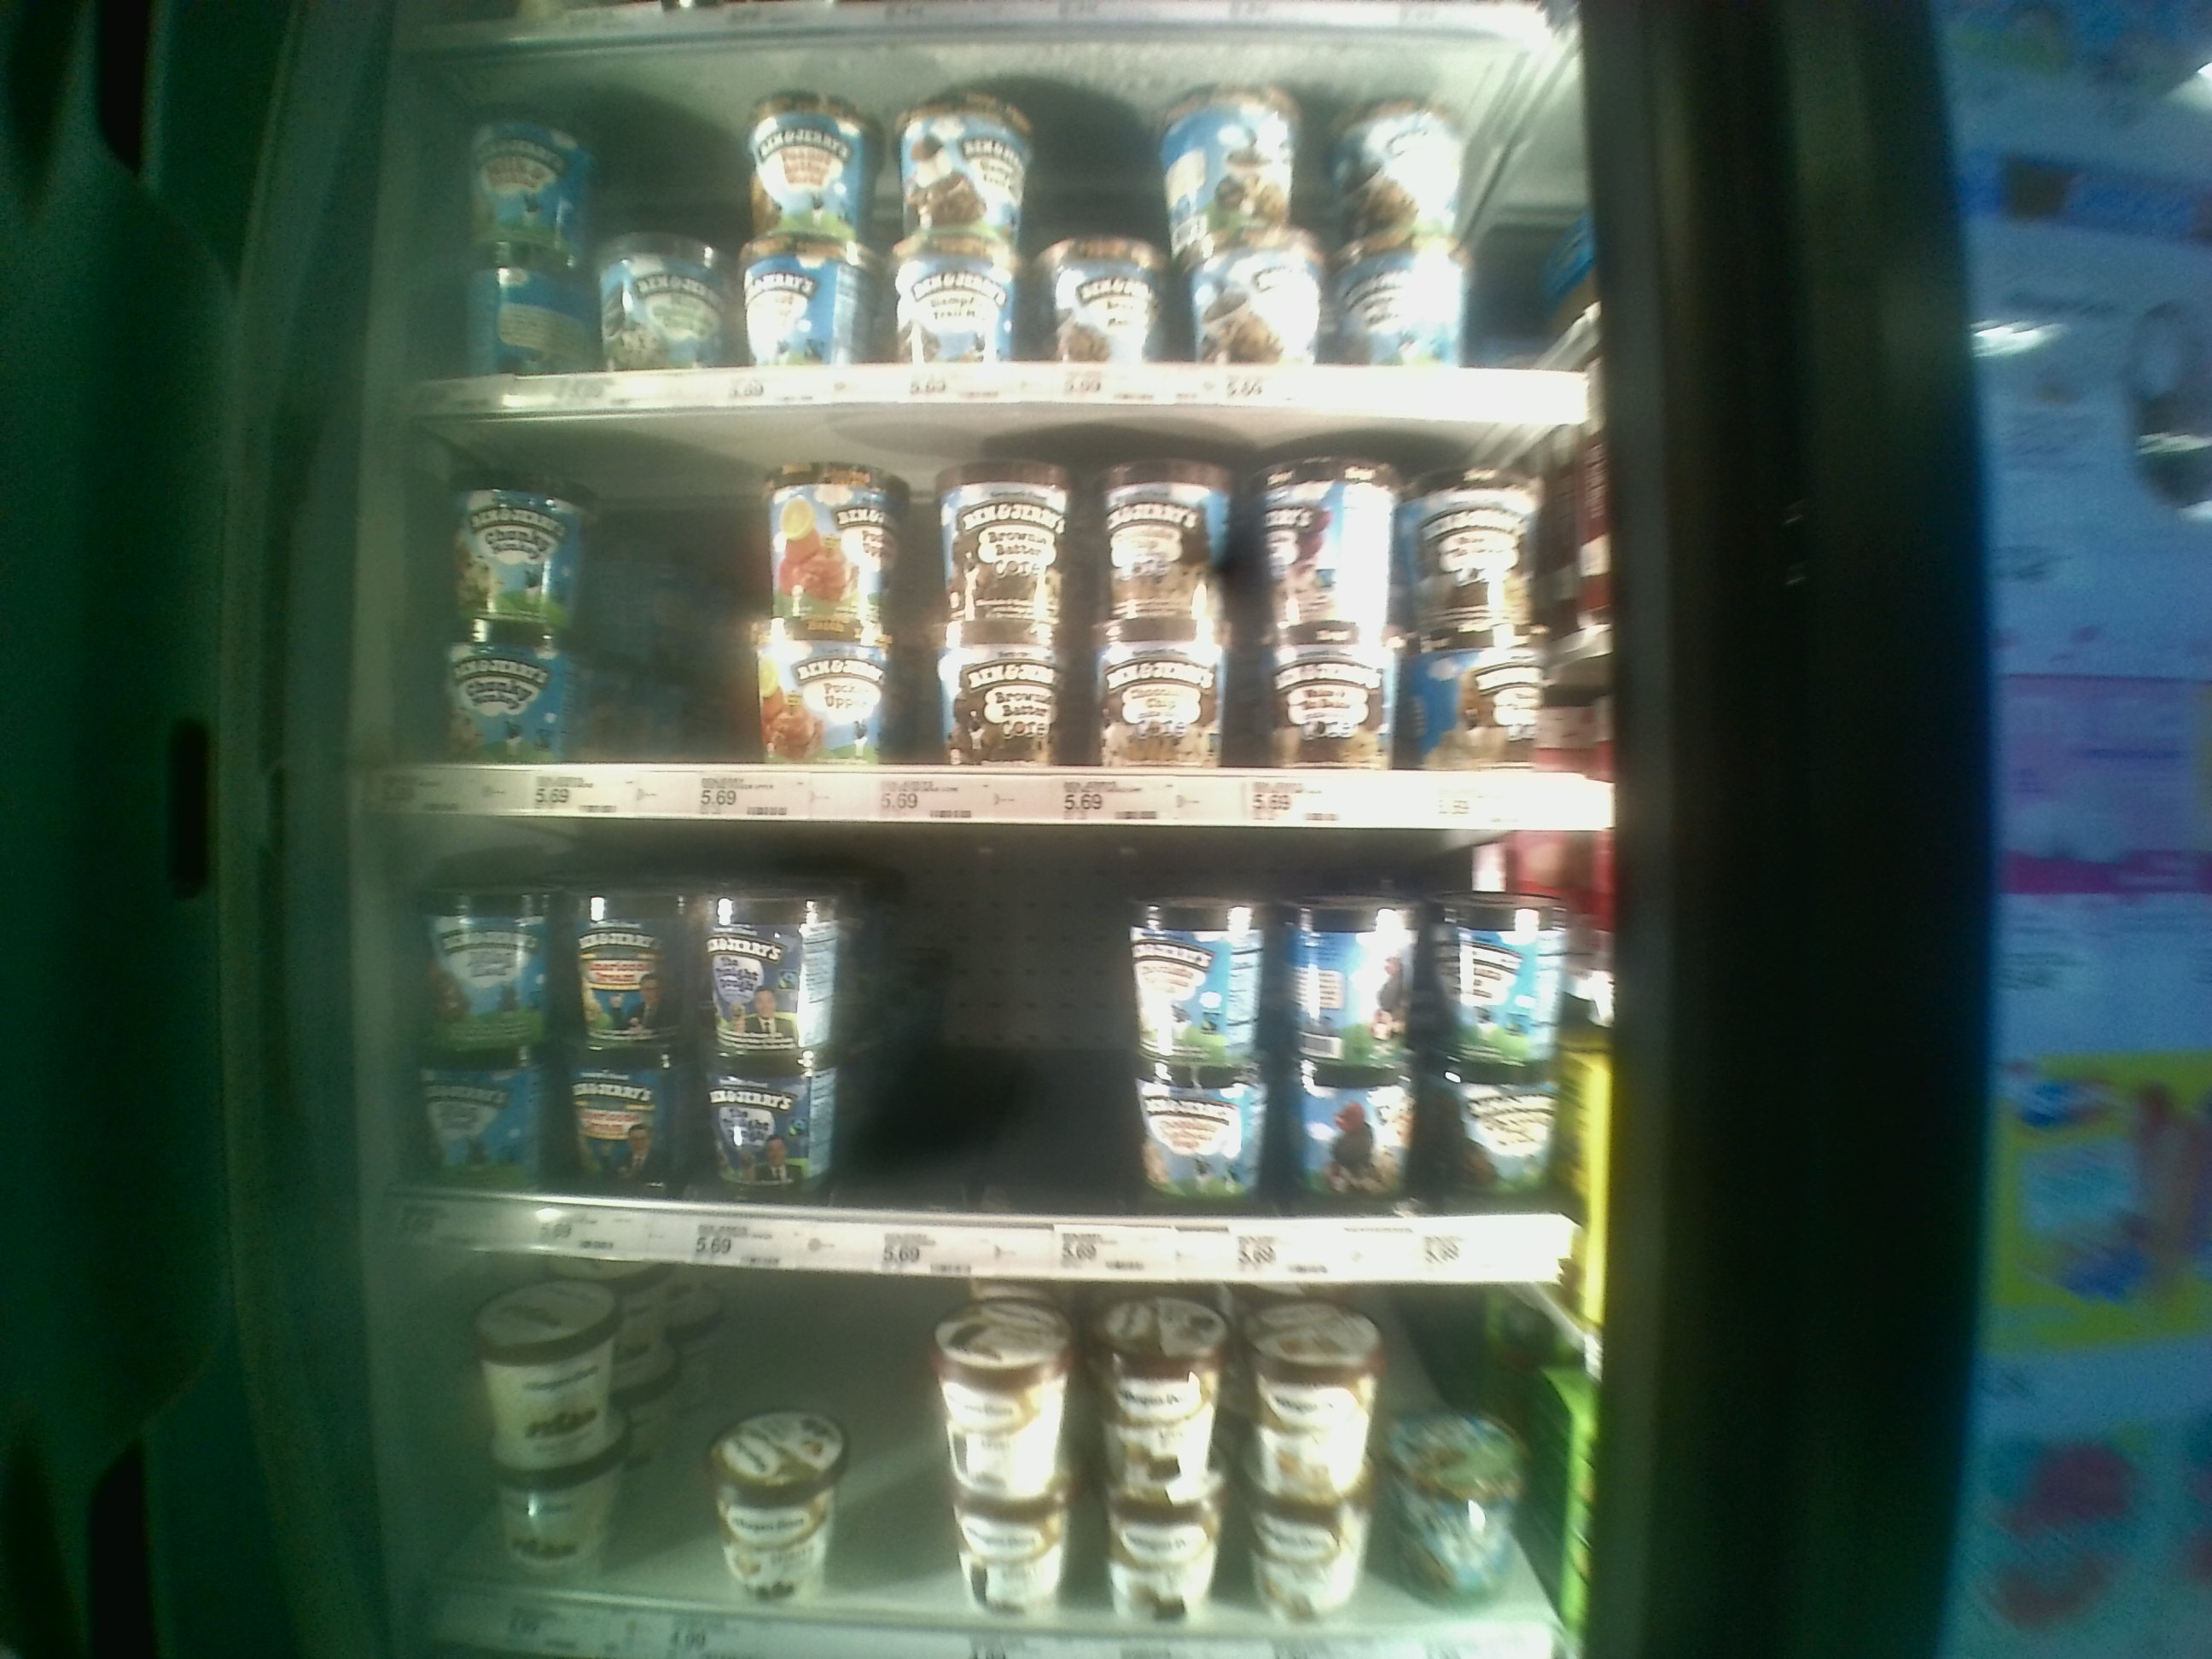shelf: (401, 819, 1587, 1279), (406, 408, 1606, 823), (411, 44, 1599, 410)
